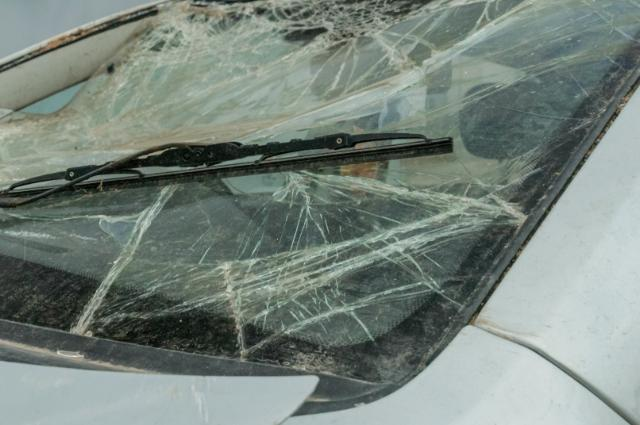Windshield: (0, 3, 526, 362)
